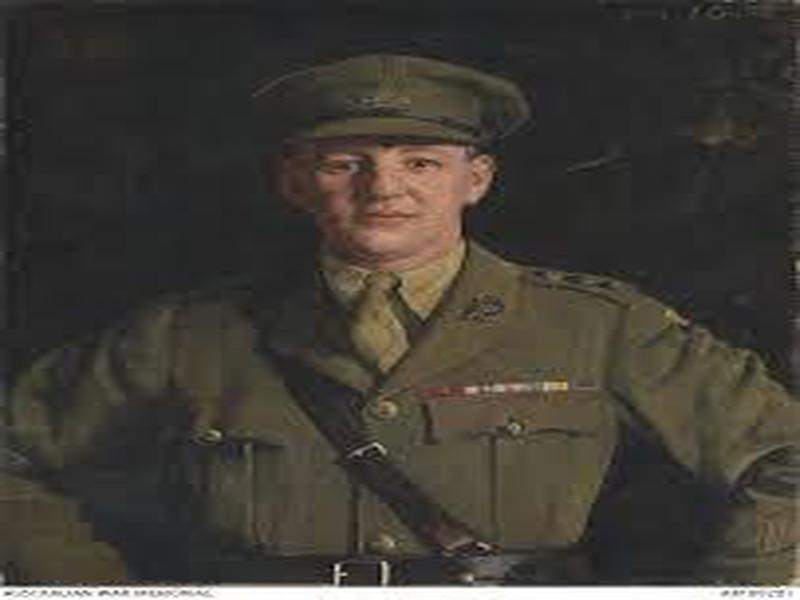without_mask: (308, 138, 459, 250)
